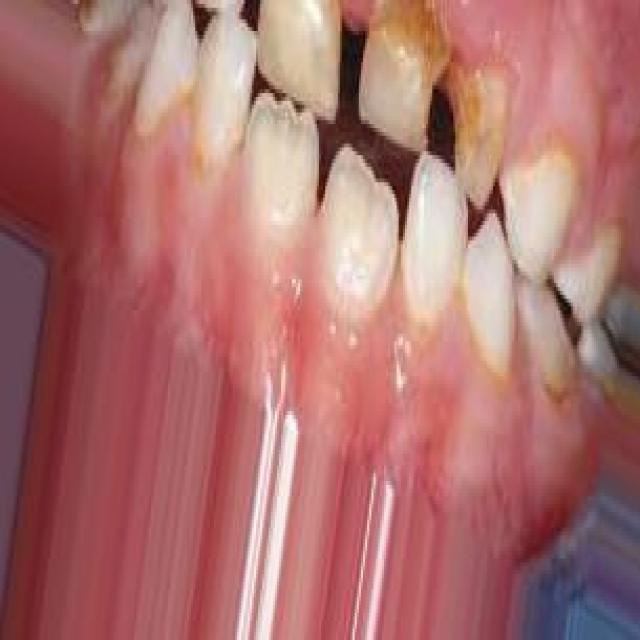caries: (351, 0, 445, 150), (446, 46, 511, 212)
